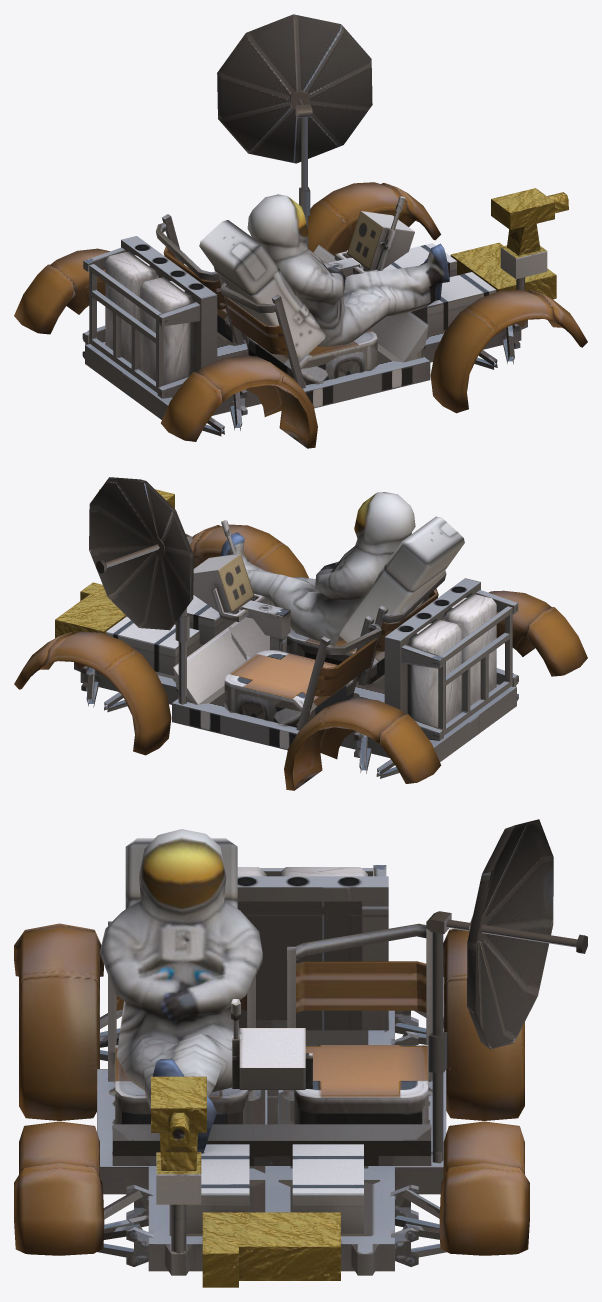
The model's file is f1_lunar_rover.dae.
The picture shows the model from 3 angles, top to bottom: view 1: azimuth 30°, elevation 25°; view 2: azimuth 150°, elevation 25°; view 3: azimuth 270°, elevation 25°; orthographic projection. The views are drawn at different scales.
Visible parts, largest first — view 1: lunar_rover_body; view 2: lunar_rover_body; view 3: lunar_rover_body.
Boxes of the visible parts, x1,y1,x2,y2 form: lunar_rover_body: (14, 14, 587, 448); lunar_rover_body: (14, 477, 587, 790); lunar_rover_body: (14, 819, 587, 1287).
Bounding box in the file's own units: 0.2644 × 0.207 × 0.1584.
Materials: 1 (1 with a texture image).
